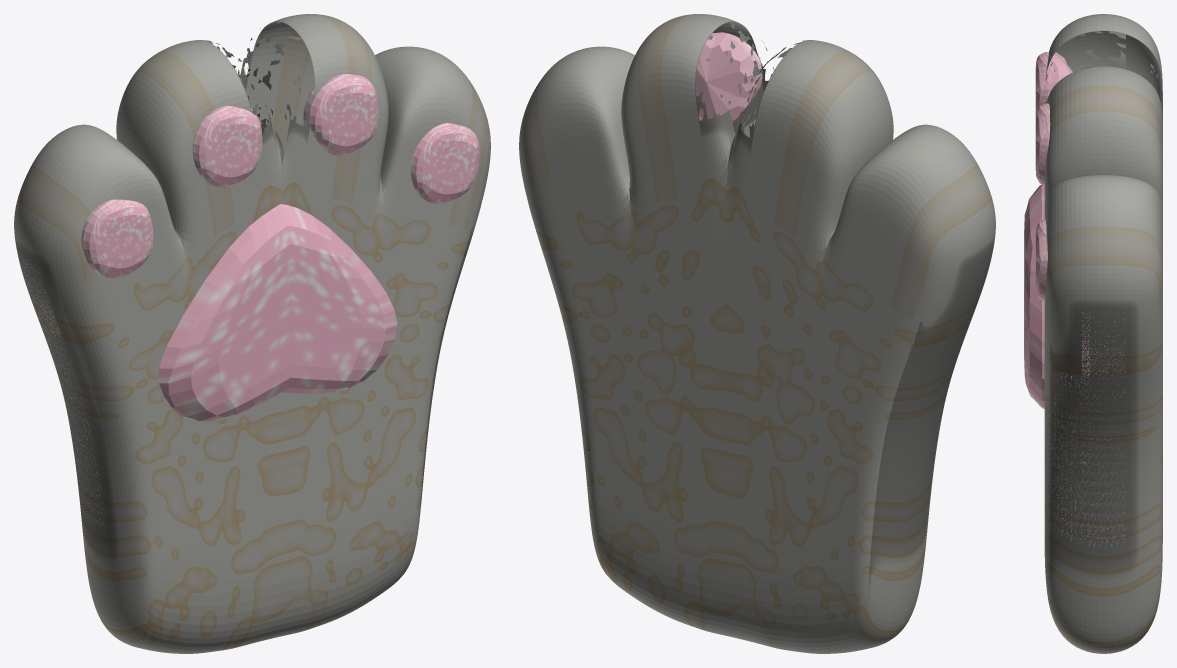
File: catPaw.fbx
3 renders of one model, left to right at view 1: azimuth 30°, elevation 25°; view 2: azimuth 150°, elevation 25°; view 3: azimuth 270°, elevation 25°, orthographic. The views are drawn at different scales.
Visible parts, largest first — view 1: Plane.002, Plane.003; view 2: Plane.002, Plane.003; view 3: Plane.002, Plane.003.
Boxes of the visible parts, left/top/right/bottom form: Plane.002: left=14, top=14, right=490, bottom=653; Plane.003: left=81, top=74, right=479, bottom=421; Plane.002: left=519, top=14, right=995, bottom=653; Plane.003: left=695, top=32, right=914, bottom=359; Plane.002: left=1044, top=14, right=1162, bottom=653; Plane.003: left=1024, top=52, right=1092, bottom=419.
Bounding box in the file's own units: 342 × 433 × 95.23.
